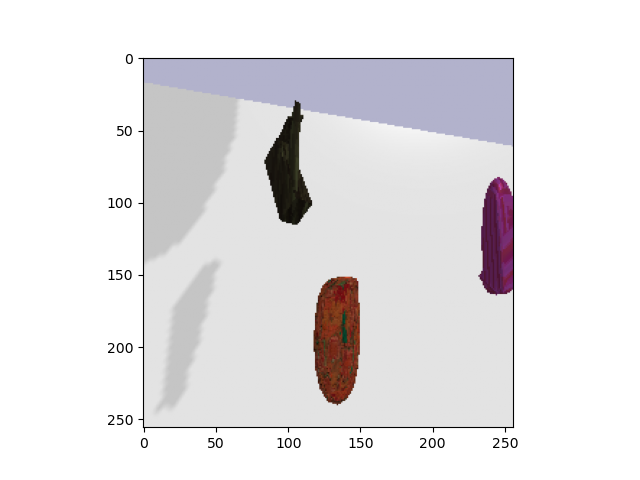v249b387_105: (478, 177, 515, 297)
v249b387_106: (311, 272, 363, 412)
v249b387_109: (254, 98, 324, 228)
